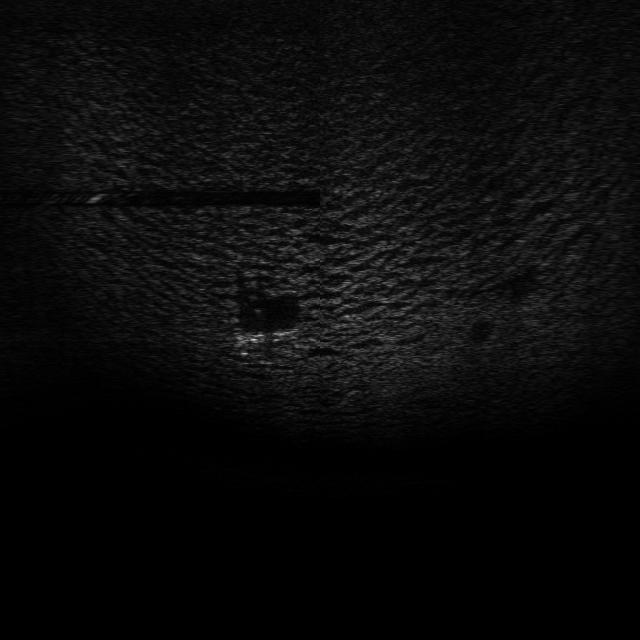plane: (228, 322, 297, 351)
